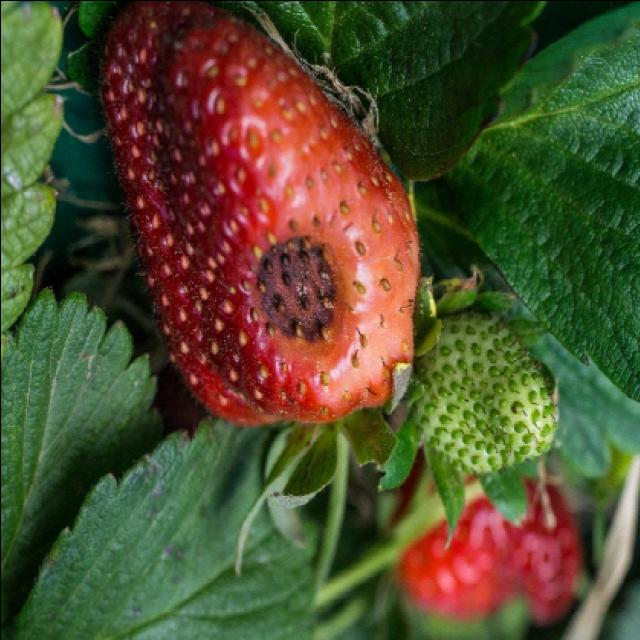Anthracnose Fruit Rot: (254, 247, 346, 327)
